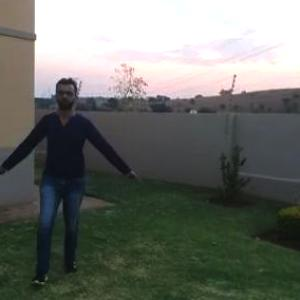land: (0, 75, 140, 279)
